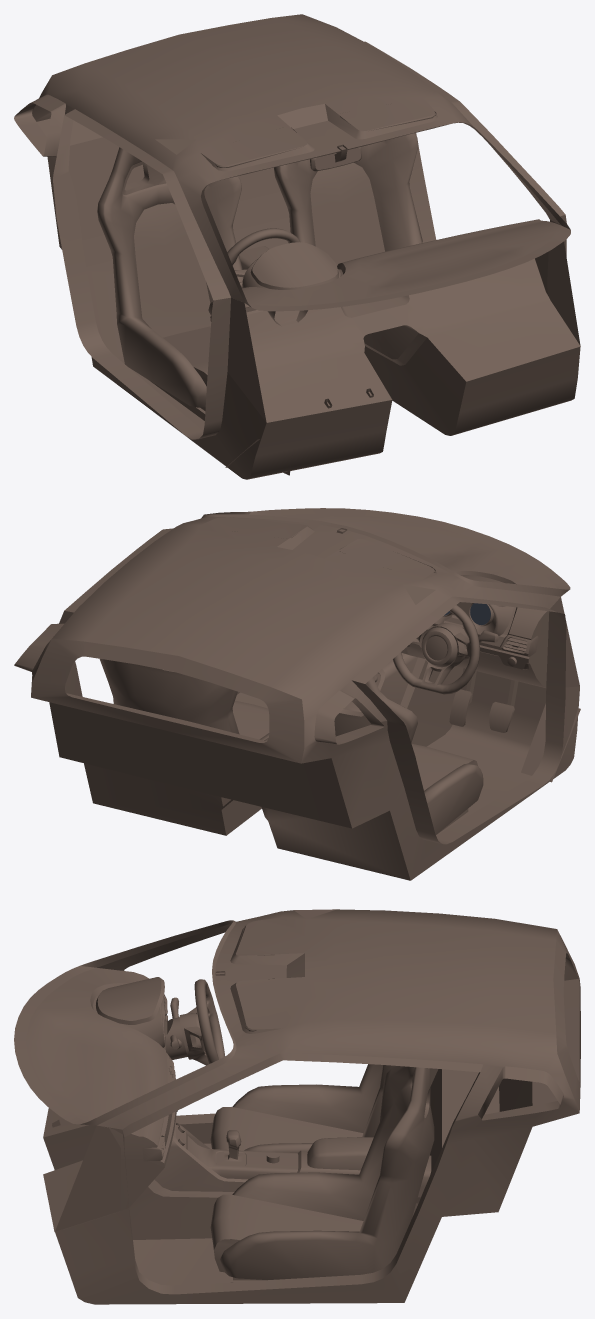
Rendered from RealisticCar06_HD_Interior_RightHanded.FBX.
3 views of the same model, one above another, from view 1: azimuth 30°, elevation 25°; view 2: azimuth 150°, elevation 25°; view 3: azimuth 270°, elevation 25° (orthographic). The views are drawn at different scales.
Visible parts, largest first — view 1: Car06_Interior_LOD0, Car06_Interior_SteeringWheel_LOD0; view 2: Car06_Interior_LOD0, Car06_Interior_SteeringWheel_LOD0; view 3: Car06_Interior_LOD0, Car06_Interior_SteeringWheel_LOD0.
Boxes of the visible parts, bbox=[...] form: Car06_Interior_LOD0: bbox=[14, 14, 580, 479]; Car06_Interior_SteeringWheel_LOD0: bbox=[227, 228, 300, 282]; Car06_Interior_LOD0: bbox=[14, 508, 580, 880]; Car06_Interior_SteeringWheel_LOD0: bbox=[393, 605, 479, 694]; Car06_Interior_LOD0: bbox=[14, 909, 580, 1304]; Car06_Interior_SteeringWheel_LOD0: bbox=[179, 979, 224, 1065].
Size of what is drawn, in the model's own units: 1.48 by 1.99 by 1.01.
